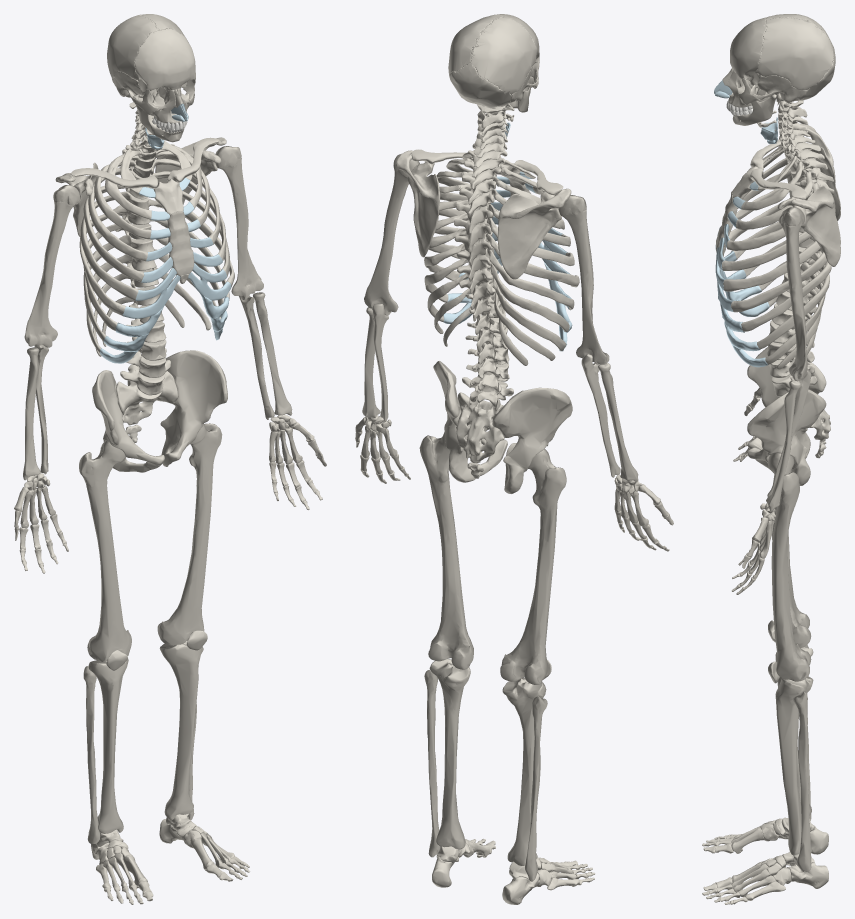
The model's file is skeleton-v1.glb.
3 renders of one model, left to right at view 1: azimuth 30°, elevation 25°; view 2: azimuth 150°, elevation 25°; view 3: azimuth 270°, elevation 25°, orthographic. The views are drawn at different scales.
Visible parts, largest first — view 1: Femur.r, Femur.l, Hip bone.l, Tibia.l, Frontal bone, Tibia.r, Humerus.r, Humerus.l, Hip bone.r, Parietal bone.r, Sacrum, Fibula.r (+18 smaller); view 2: Femur.r, Femur.l, Hip bone.r, Scapula.r, Parietal bone.r, Tibia.l, Tibia.r, Humerus.r, Humerus.l, Hip bone.l, Scapula.l, Sacrum (+16 smaller); view 3: Femur.l, Parietal bone.l, Hip bone.l, Tibia.l, Humerus.l, Scapula.l, Fibula.l, Frontal bone, Hip bone.r, Radius.l, Seventh rib.l, Femur.r (+29 smaller).
Part boxes in pixels (x1=…): Femur.r: x1=79, y1=440, x2=131, y2=661; Femur.l: x1=157, y1=423, x2=222, y2=645; Hip bone.l: x1=160, y1=350, x2=227, y2=466; Tibia.l: x1=159, y1=640, x2=202, y2=819; Frontal bone: x1=135, y1=28, x2=195, y2=92; Tibia.r: x1=88, y1=658, x2=128, y2=833; Humerus.r: x1=24, y1=185, x2=79, y2=347; Humerus.l: x1=215, y1=146, x2=263, y2=299; Hip bone.r: x1=92, y1=370, x2=164, y2=472; Parietal bone.r: x1=107, y1=15, x2=159, y2=80; Sacrum: x1=116, y1=371, x2=177, y2=425; Fibula.r: x1=83, y1=666, x2=100, y2=843; Femur.r: x1=500, y1=448, x2=566, y2=684; Femur.l: x1=419, y1=432, x2=473, y2=669; Hip bone.r: x1=492, y1=387, x2=572, y2=493; Scapula.r: x1=497, y1=188, x2=571, y2=279; Parietal bone.r: x1=471, y1=16, x2=536, y2=94; Tibia.l: x1=429, y1=658, x2=470, y2=849; Tibia.r: x1=502, y1=677, x2=546, y2=865; Humerus.r: x1=558, y1=195, x2=609, y2=364; Humerus.l: x1=364, y1=153, x2=419, y2=315; Hip bone.l: x1=433, y1=361, x2=507, y2=482; Scapula.l: x1=396, y1=150, x2=440, y2=257; Sacrum: x1=456, y1=392, x2=504, y2=463; Femur.l: x1=768, y1=453, x2=811, y2=681; Parietal bone.l: x1=755, y1=17, x2=833, y2=89; Hip bone.l: x1=747, y1=389, x2=826, y2=485; Tibia.l: x1=775, y1=676, x2=813, y2=855; Humerus.l: x1=778, y1=207, x2=807, y2=381; Scapula.l: x1=777, y1=185, x2=840, y2=266; Fibula.l: x1=793, y1=691, x2=811, y2=871; Frontal bone: x1=730, y1=17, x2=767, y2=79; Hip bone.r: x1=747, y1=347, x2=826, y2=458; Radius.l: x1=766, y1=380, x2=801, y2=511; Seventh rib.l: x1=731, y1=252, x2=827, y2=312; Femur.r: x1=772, y1=474, x2=811, y2=647.
Size of the model in its own units: 0.6541 by 1.7 by 0.2501.
